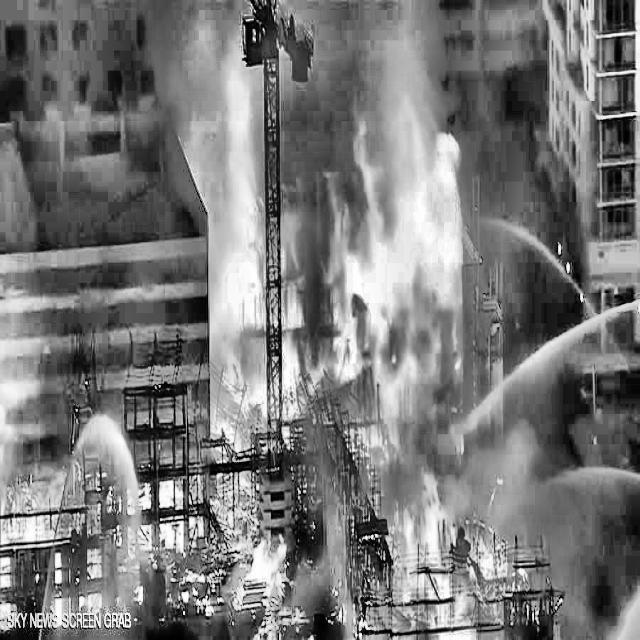fire: (181, 70, 535, 528), (37, 374, 379, 640), (350, 441, 540, 640)
